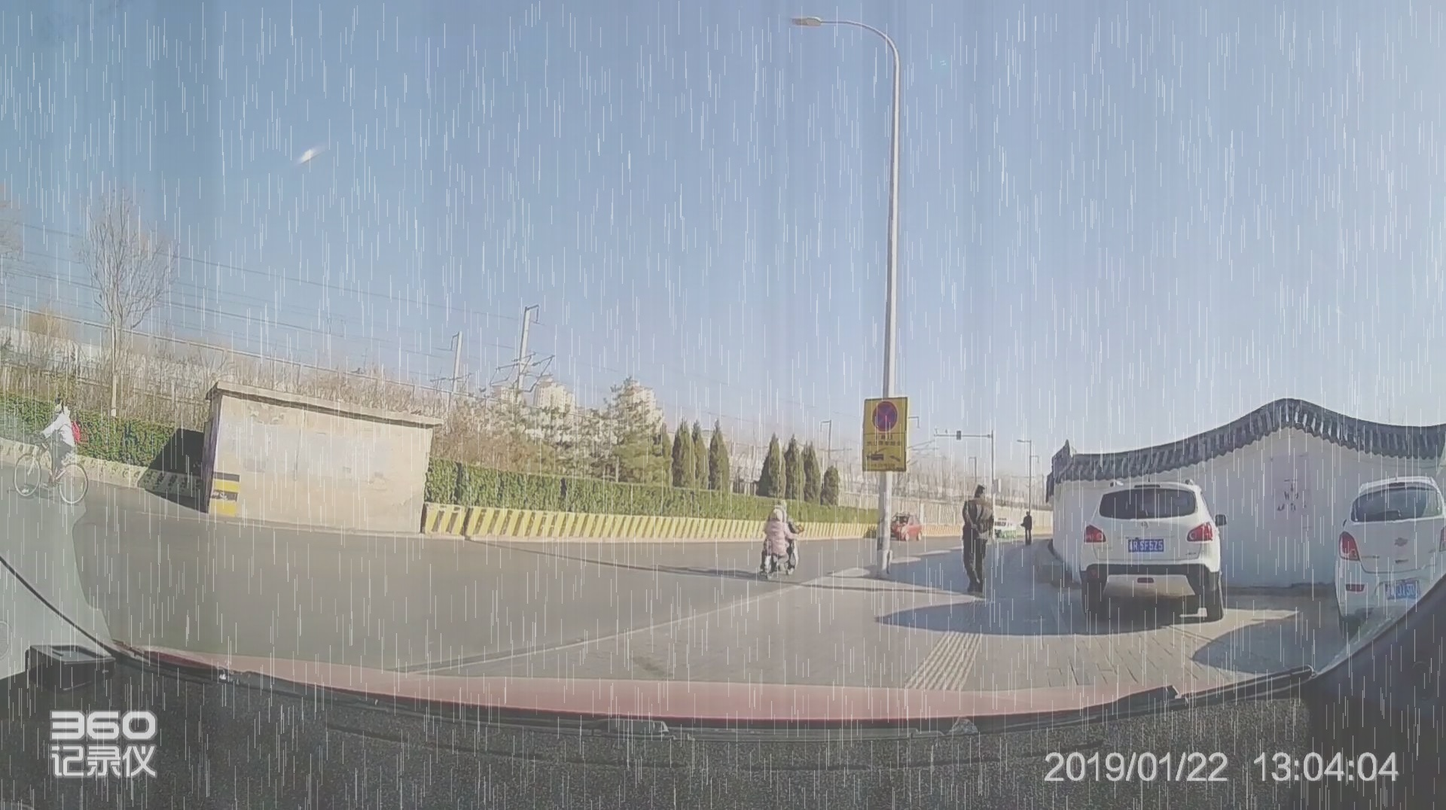Prohibitory Signs: (871, 400, 900, 433)
